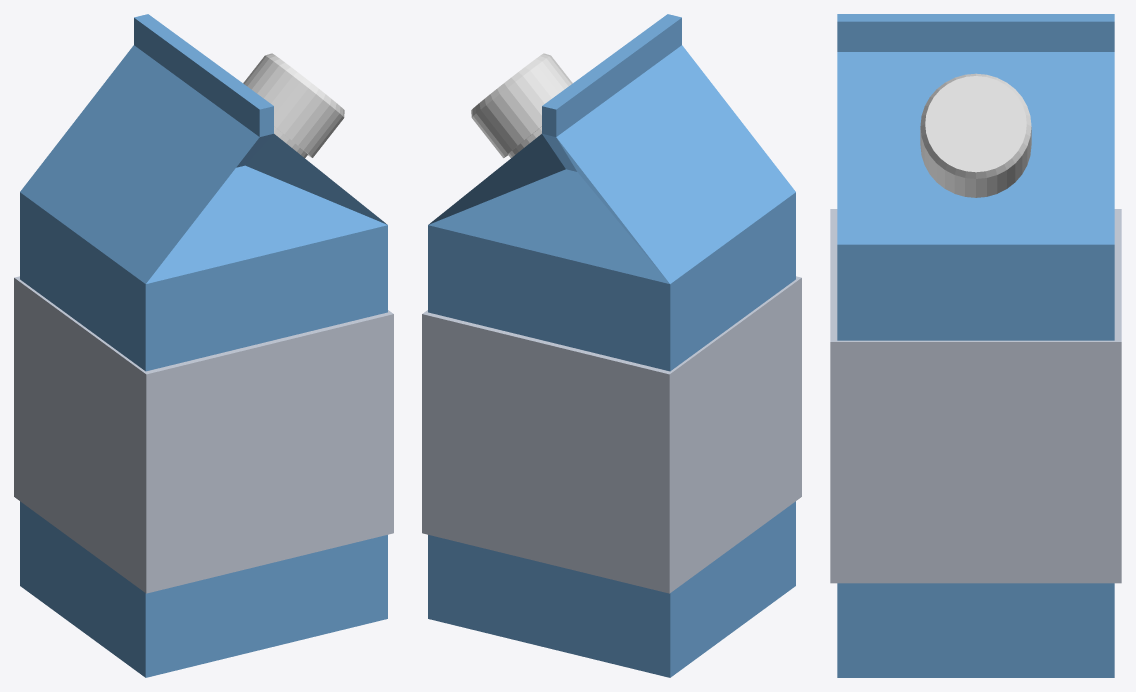
The model's file is milk_carton_scaled.fbx.
3 renders of one model, left to right at view 1: azimuth 30°, elevation 25°; view 2: azimuth 150°, elevation 25°; view 3: azimuth 270°, elevation 25°, orthographic. The views are drawn at different scales.
Parts seen in each view (by area): view 1: Cube.006, Cube.007, Cylinder; view 2: Cube.006, Cube.007, Cylinder; view 3: Cube.006, Cube.007, Cylinder.
Part boxes in pixels (x1,y1,x2,y2): Cube.006: [20, 14, 387, 677]; Cube.007: [14, 276, 393, 593]; Cylinder: [243, 53, 344, 157]; Cube.006: [428, 14, 795, 677]; Cube.007: [422, 276, 801, 593]; Cylinder: [471, 53, 572, 157]; Cube.006: [837, 14, 1114, 677]; Cube.007: [830, 209, 1121, 583]; Cylinder: [920, 73, 1031, 197].
Size of the model in its own units: 6.81 by 13.73 by 6.09.
